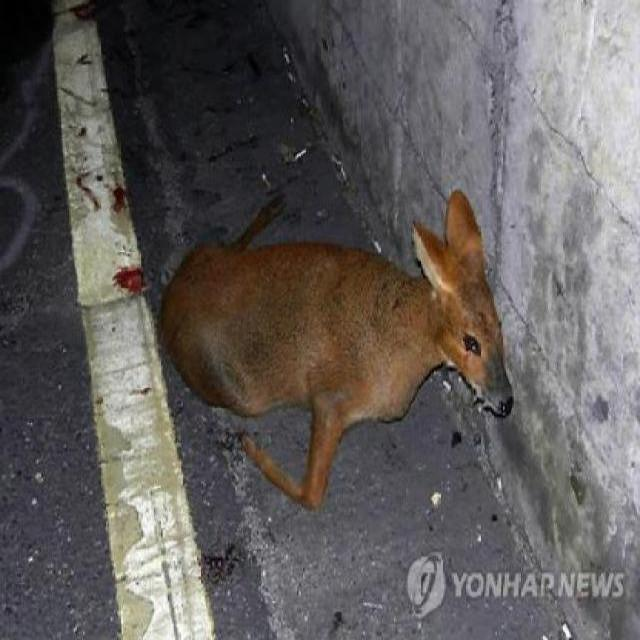deer: (164, 171, 522, 522)
